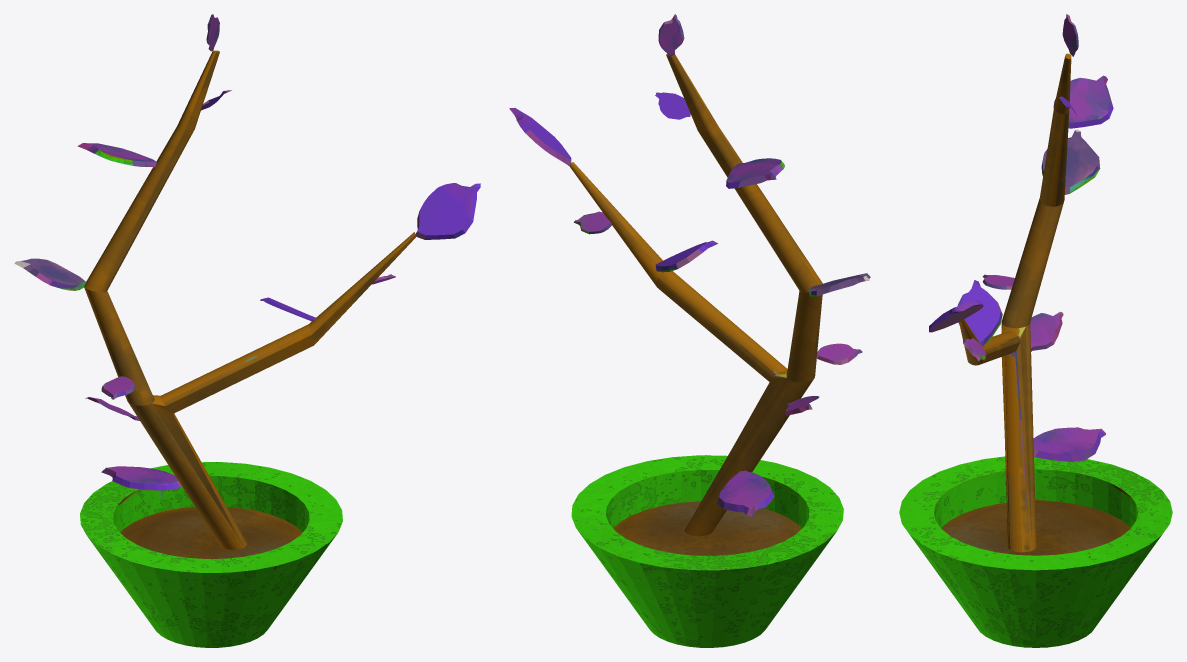
Rendered from plant3strip.glb.
The picture shows the model from 3 angles, left to right: view 1: azimuth 30°, elevation 25°; view 2: azimuth 150°, elevation 25°; view 3: azimuth 270°, elevation 25°; orthographic projection. The views are drawn at different scales.
Parts seen in each view (by area): view 1: Cylinder; view 2: Cylinder; view 3: Cylinder.
Part boxes in pixels (box(x1,y1,x2,y2)): Cylinder: box(14, 14, 480, 647); Cylinder: box(509, 14, 870, 647); Cylinder: box(899, 14, 1172, 647).
Bounding box in the file's own units: 8.06 × 11.23 × 4.51.
1 material, 1 textured.
